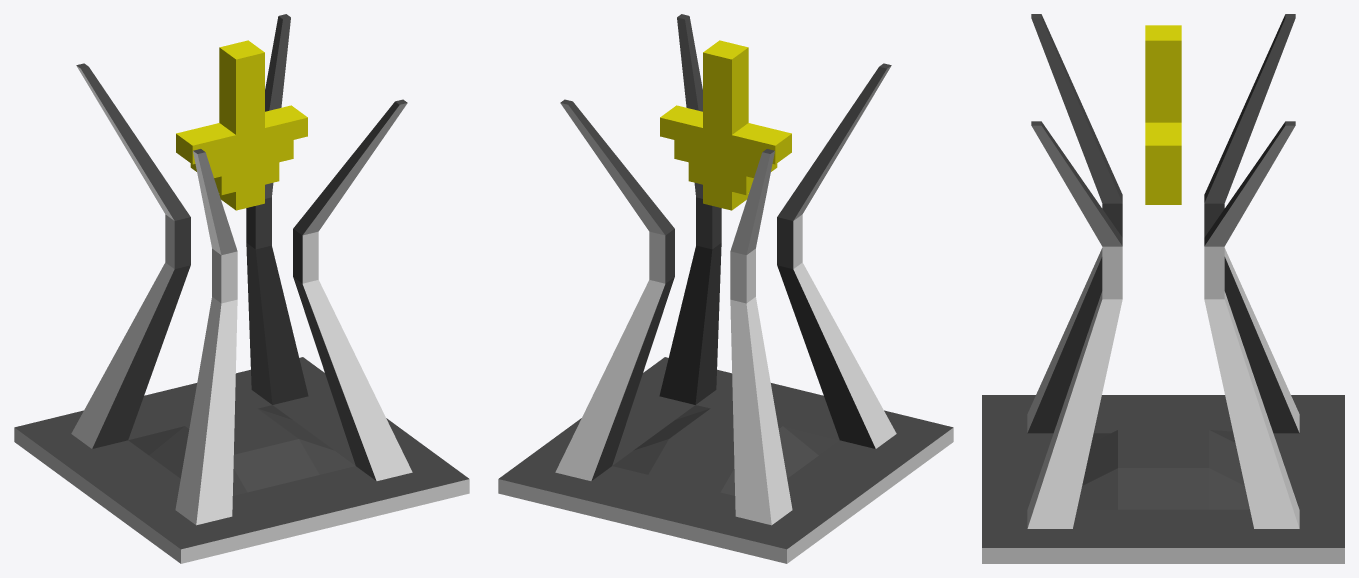
File: speedTowerRemastered.fbx
The picture shows the model from 3 angles, left to right: view 1: azimuth 30°, elevation 25°; view 2: azimuth 150°, elevation 25°; view 3: azimuth 270°, elevation 25°; orthographic projection. The views are drawn at different scales.
Parts seen in each view (by area): view 1: Cube.001, Cube; view 2: Cube.001, Cube; view 3: Cube.001, Cube.
Part boxes in pixels (x1,y1,x2,y2): Cube.001: [14, 14, 469, 563]; Cube: [176, 40, 307, 210]; Cube.001: [498, 14, 953, 563]; Cube: [660, 40, 791, 210]; Cube.001: [982, 14, 1344, 563]; Cube: [1145, 25, 1181, 204].
Bounding box in the file's own units: 200 × 277 × 200.
